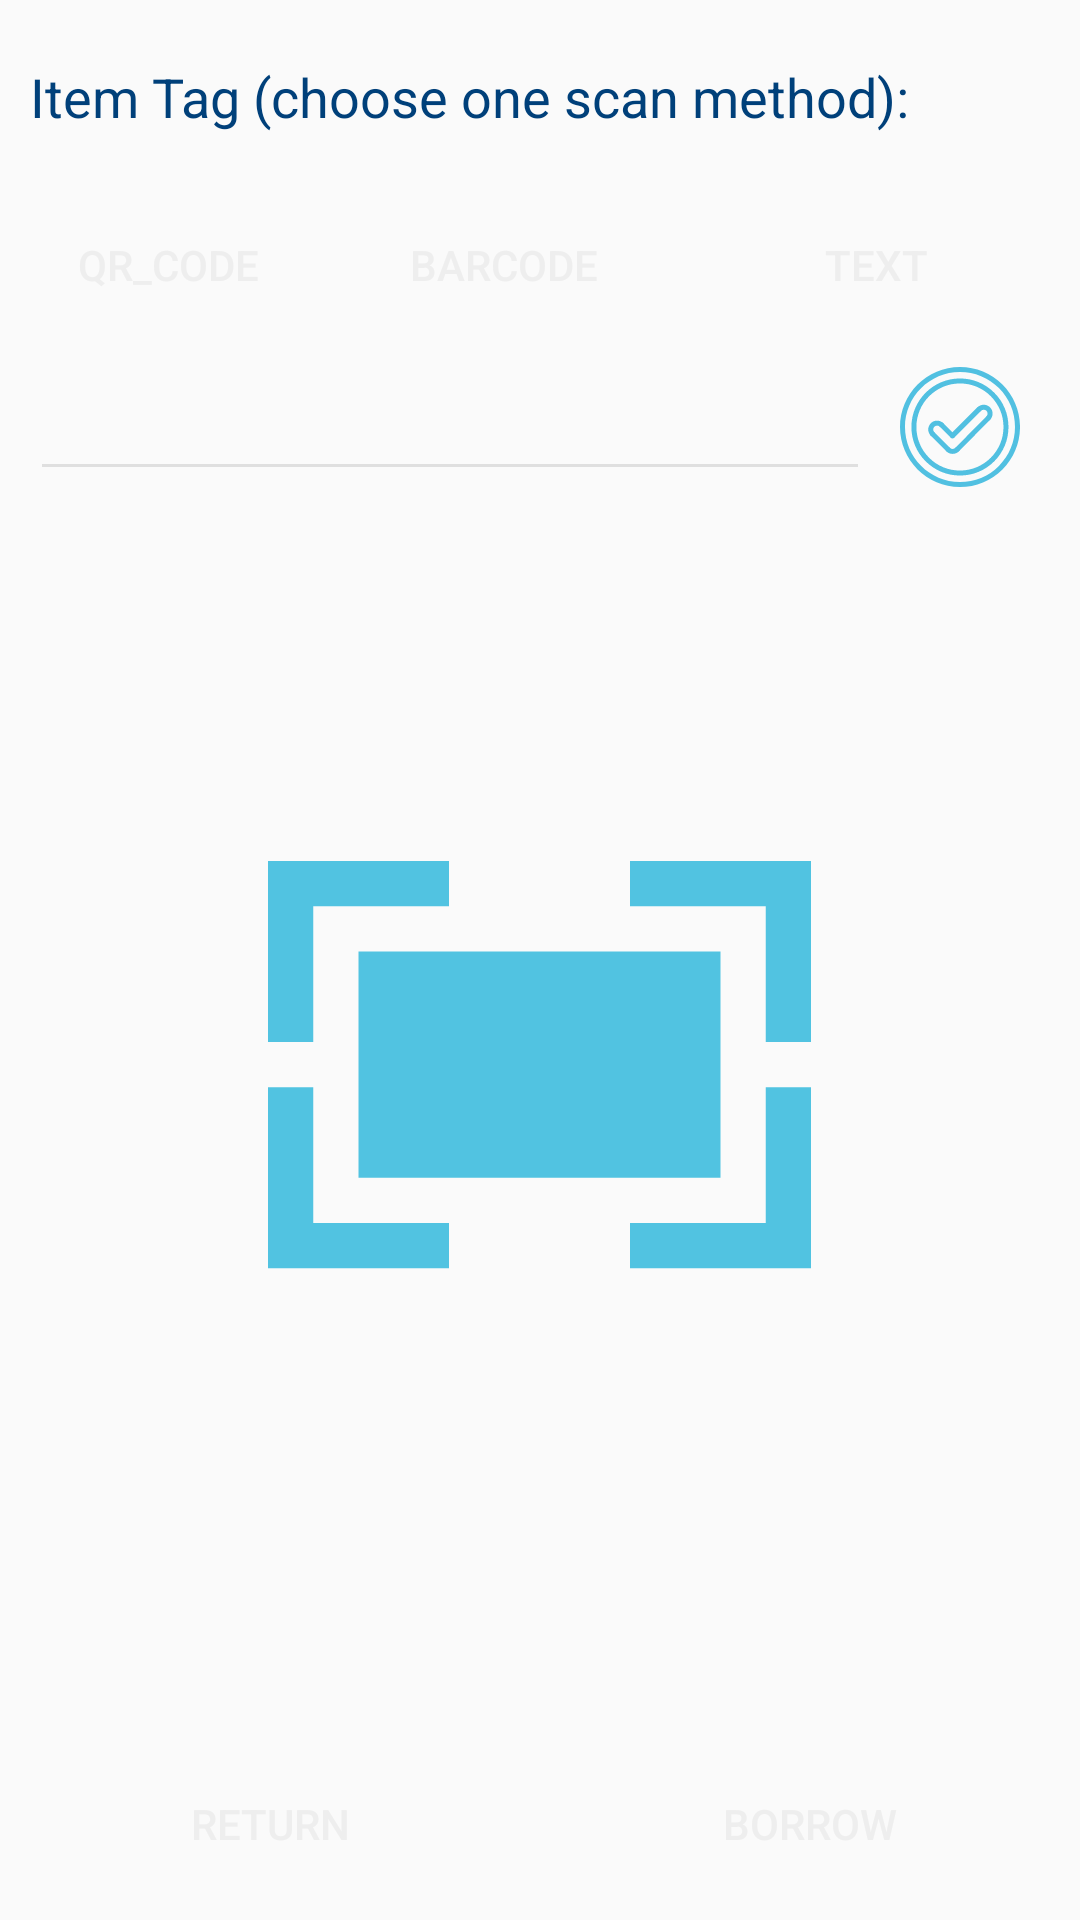

Locate icon controls on the screen. Image size 1080 × 1920, boxes as (x1, y1, x2, y2).
yes: (900, 367, 1020, 487)
